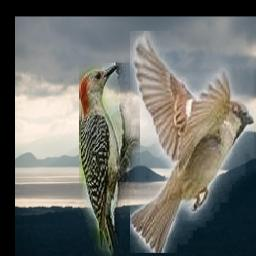Sparrow: (130, 31, 254, 253)
Woodpecker: (80, 63, 141, 256)
